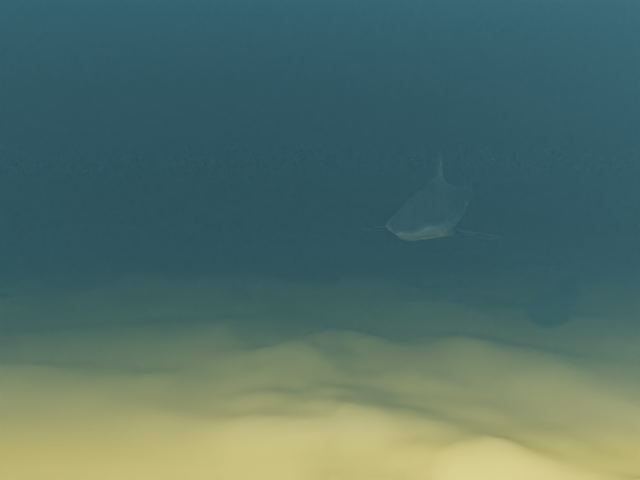Carribean Shark.001: (358, 144, 517, 241)
